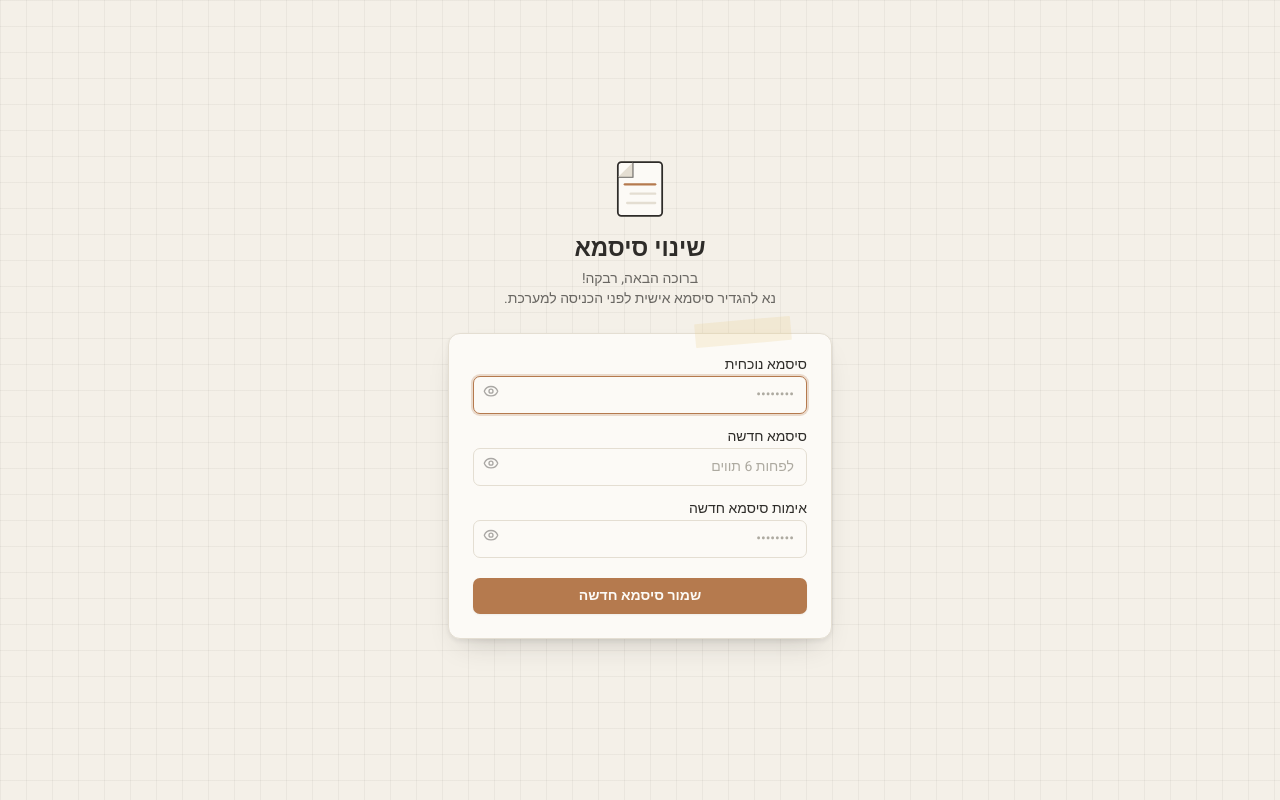
Scenario: ChangePasswordPage › shows a server error message on failure
Type "wrong" into the password field labelled "סיסמא נוכחית" at (640, 395), box [473,376,807,414]
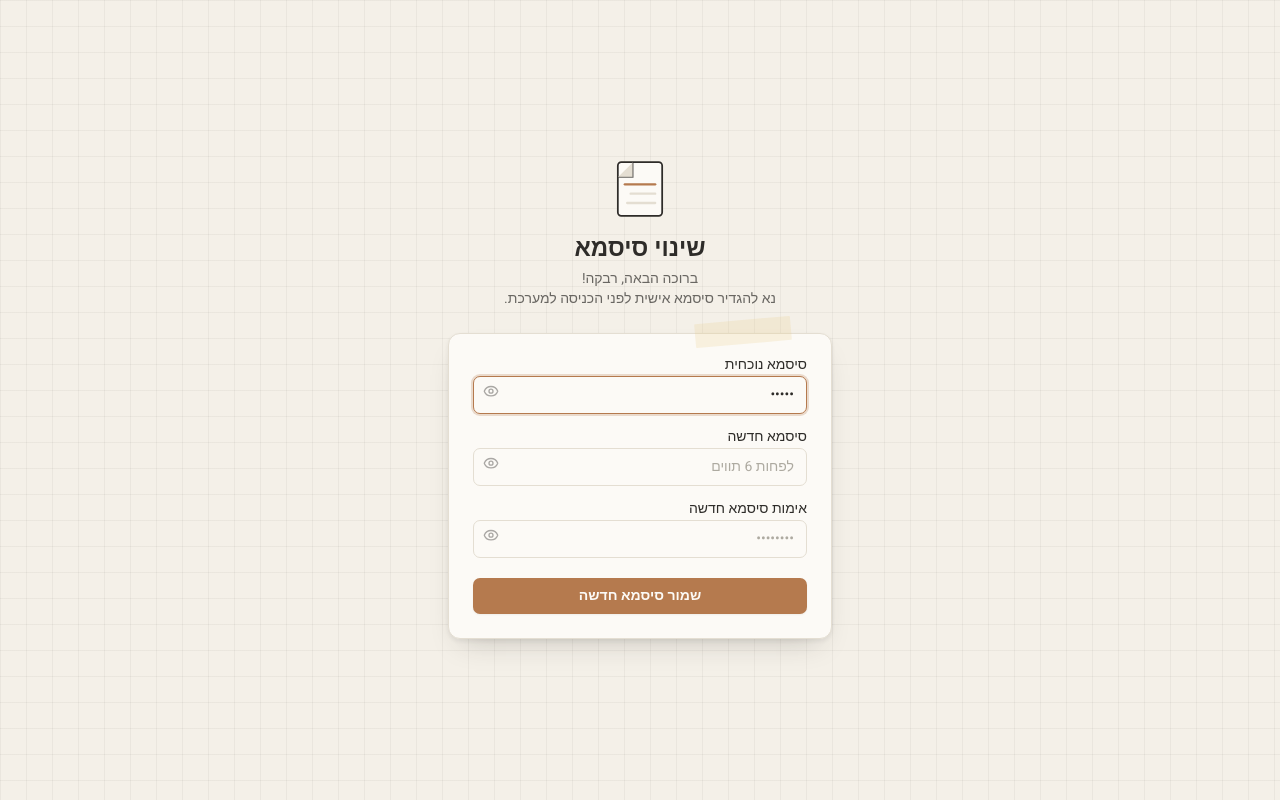
Type "abcdef" into the password field labelled "סיסמא חדשה" at (640, 467), box [473,448,807,486]
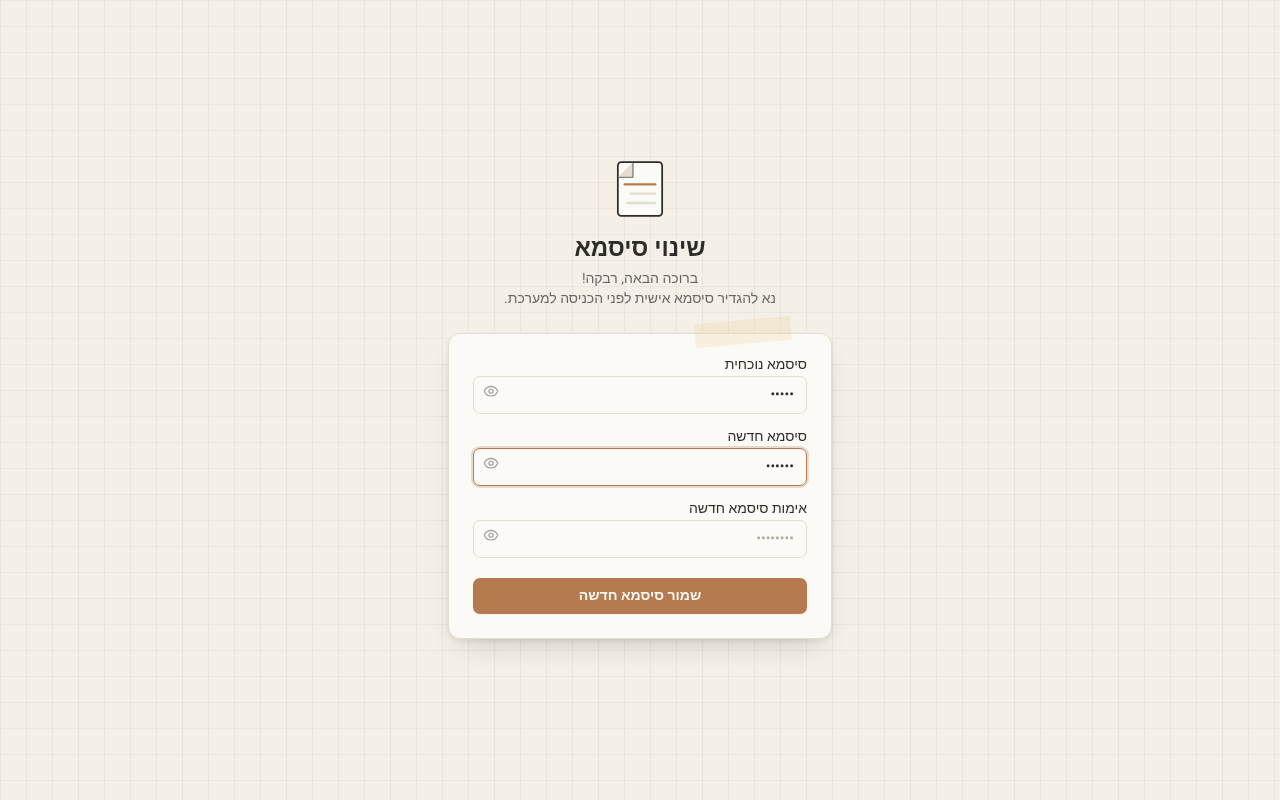
Type "abcdef" into the password field labelled "אימות סיסמא חדשה" at (640, 539), box [473,520,807,558]
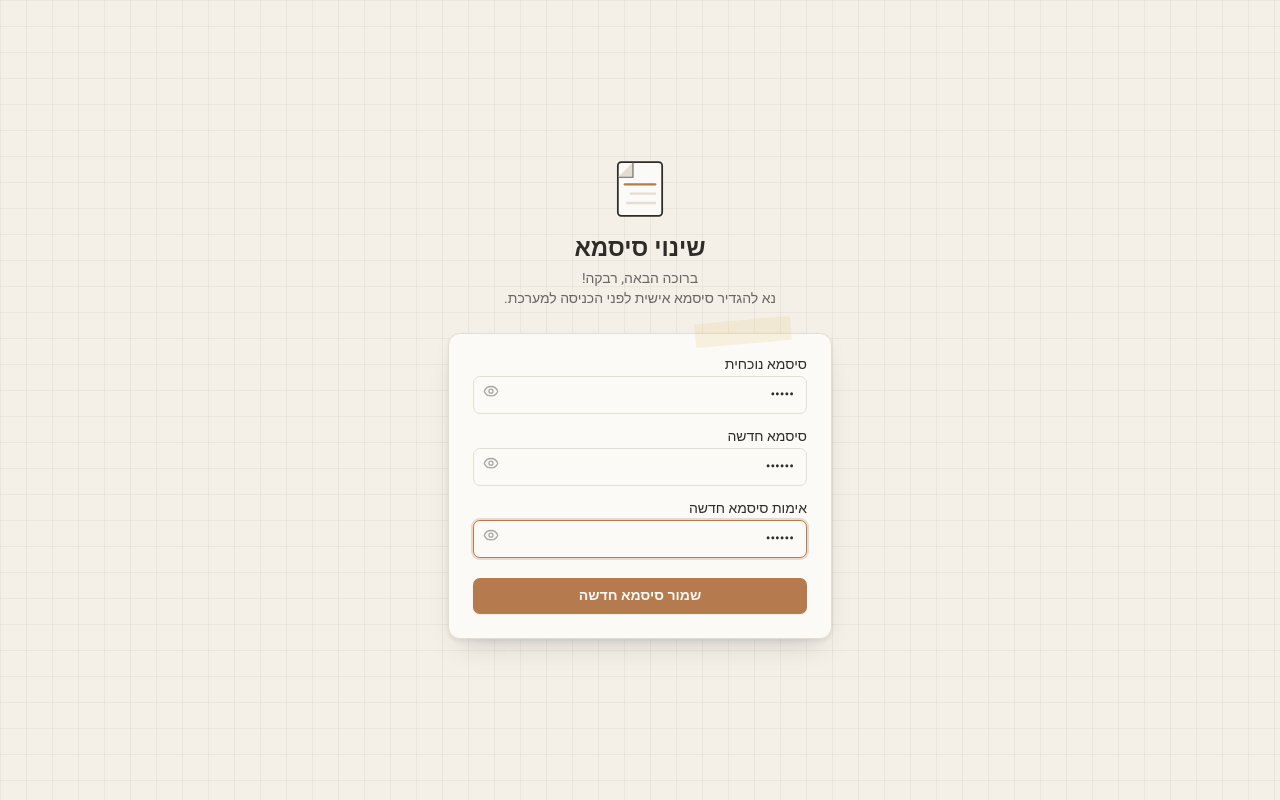
Click the button "שמור סיסמא חדשה" at (640, 596), box [473,578,807,614]
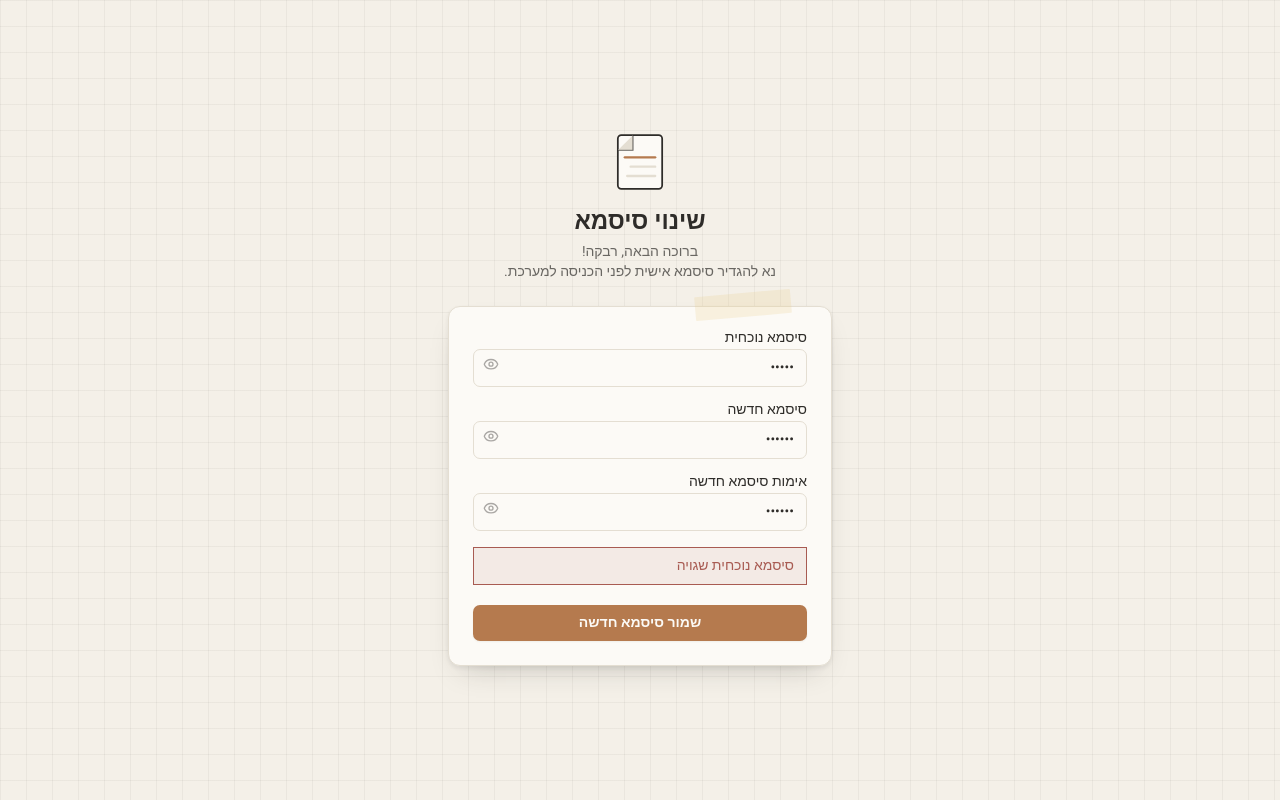
Result: the text "סיסמא נוכחית שגויה" is shown at [473,547,807,585]
